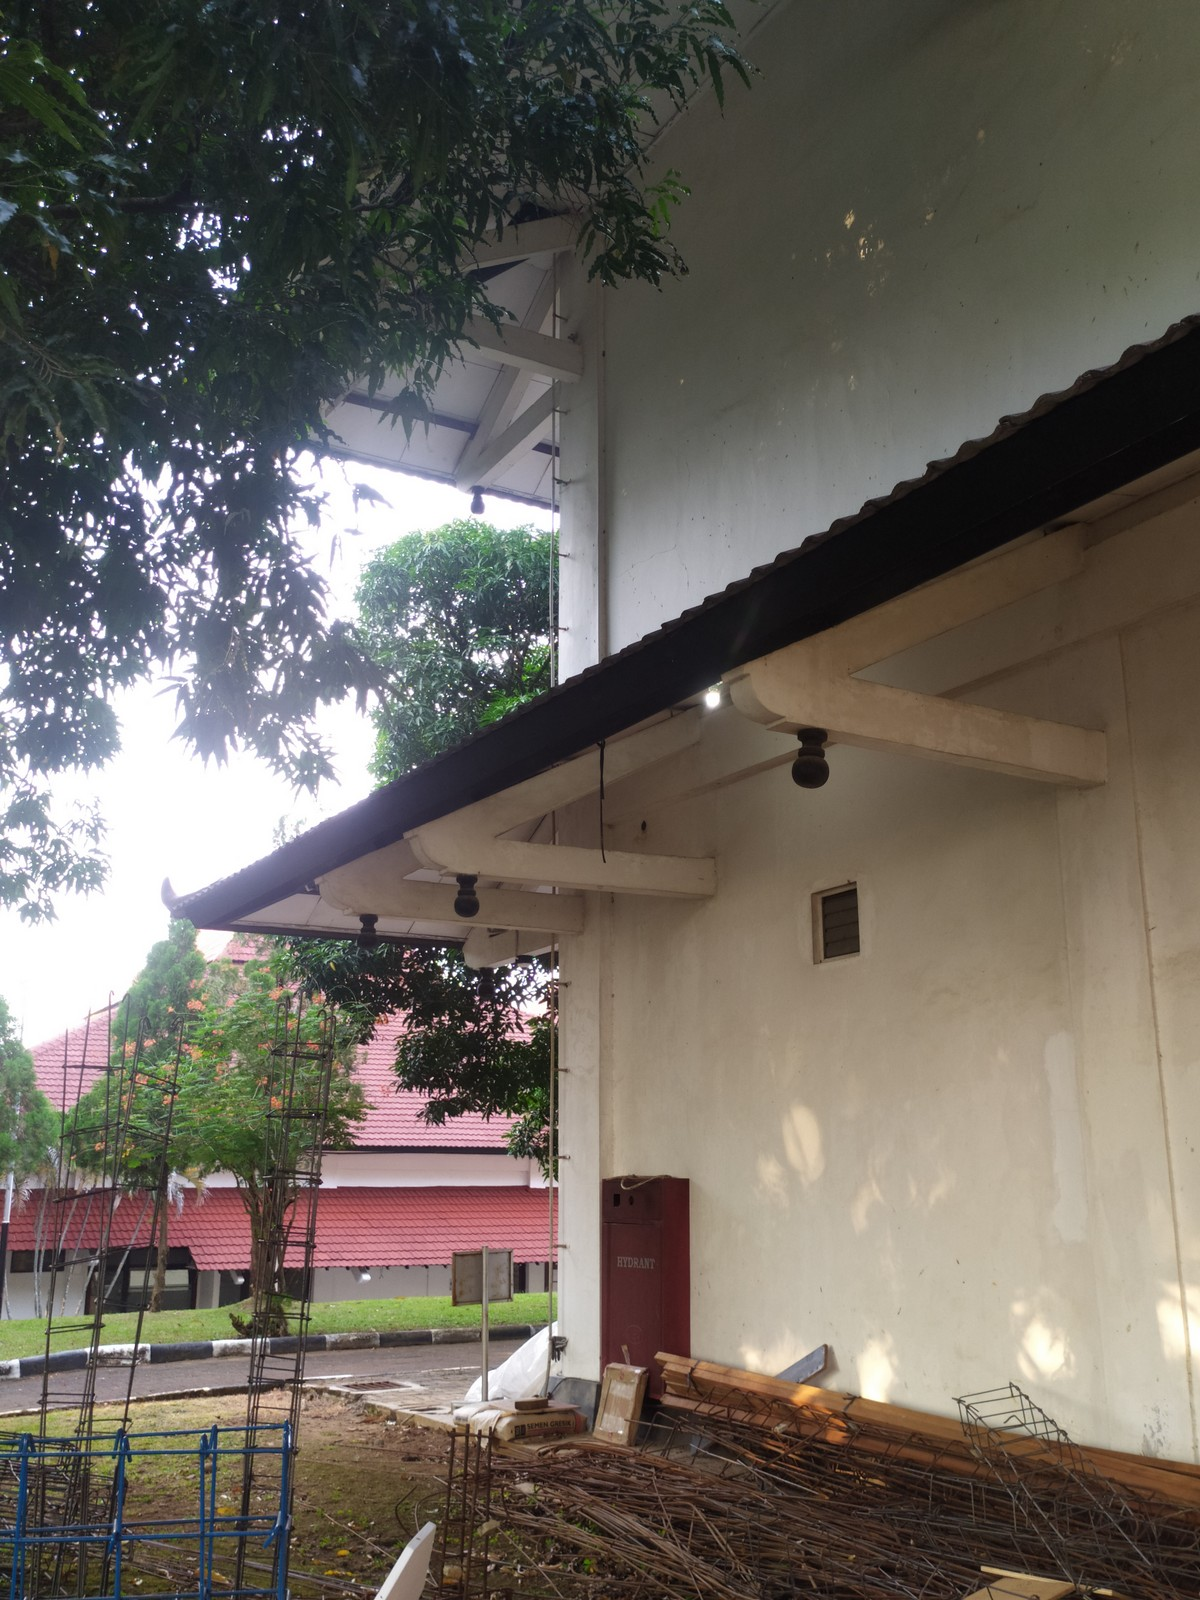concrete beam: (834, 671, 1122, 794), (503, 837, 729, 910)
